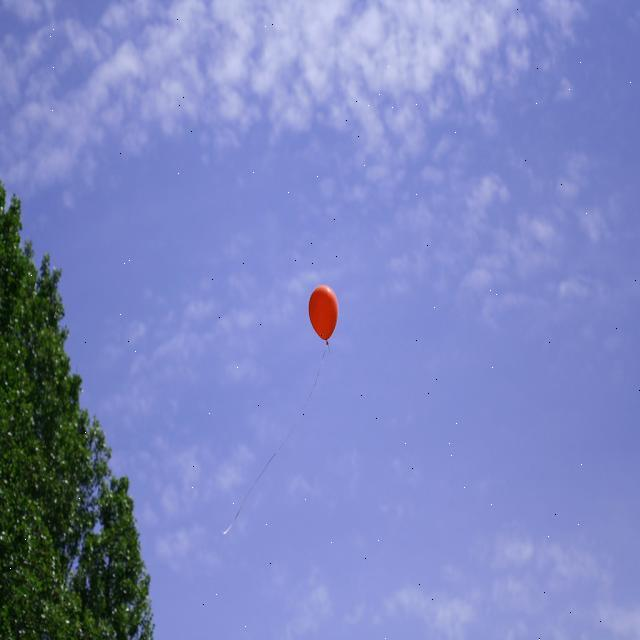red: (307, 283, 338, 345)
